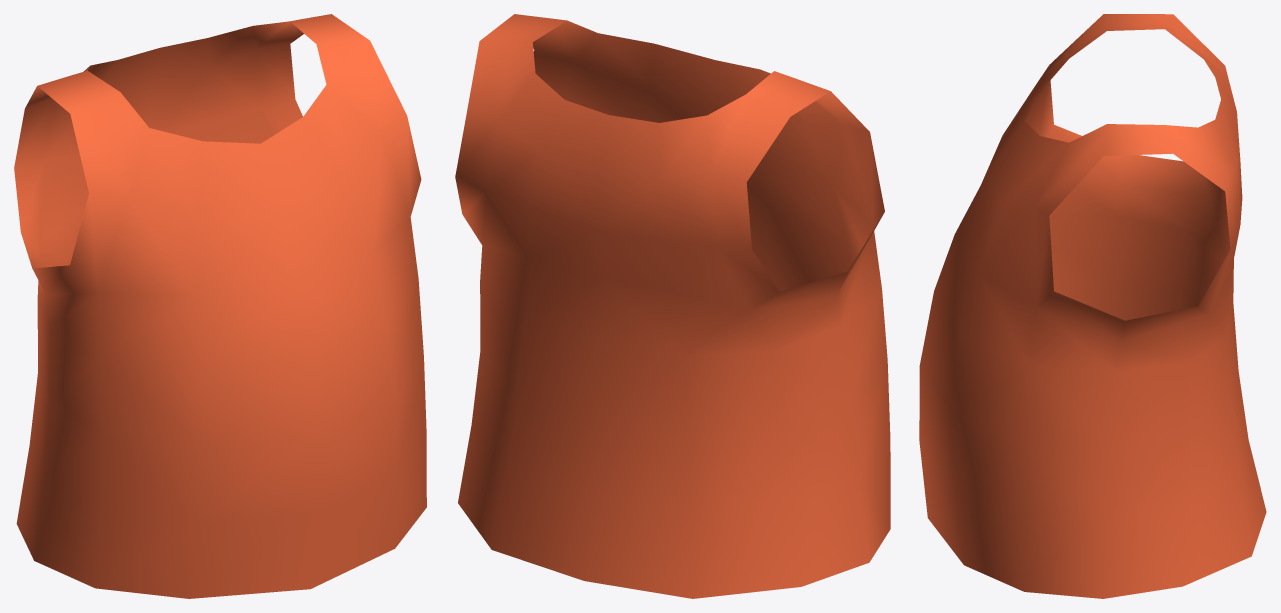
The model's file is Outerwear_Orange_002.glb.
3 renders of one model, left to right at view 1: azimuth 30°, elevation 25°; view 2: azimuth 150°, elevation 25°; view 3: azimuth 270°, elevation 25°, orthographic. The views are drawn at different scales.
Parts seen in each view (by area): view 1: Outerwear_Orange_002; view 2: Outerwear_Orange_002; view 3: Outerwear_Orange_002.
Boxes of the visible parts, left/top/right/bottom form: Outerwear_Orange_002: left=14, top=14, right=426, bottom=598; Outerwear_Orange_002: left=455, top=14, right=890, bottom=598; Outerwear_Orange_002: left=919, top=14, right=1266, bottom=598.
Size of the model in its own units: 0.4413 by 0.5137 by 0.3665.
1 material, 1 textured.
